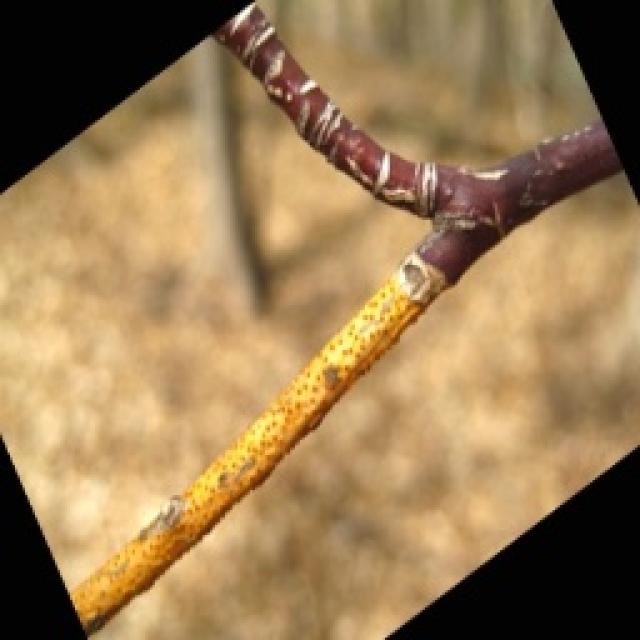Golden_canker: (63, 250, 445, 638)
